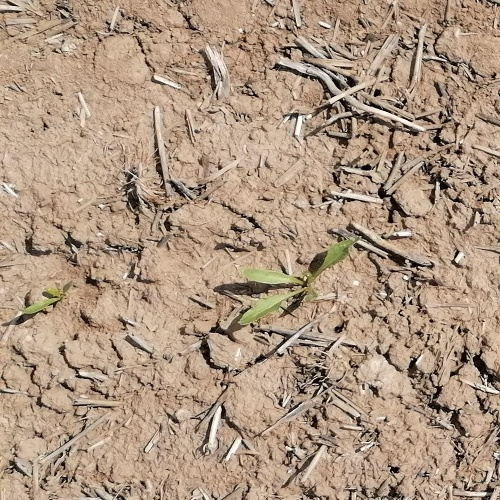beet: (236, 236, 360, 328), (17, 280, 76, 316)
